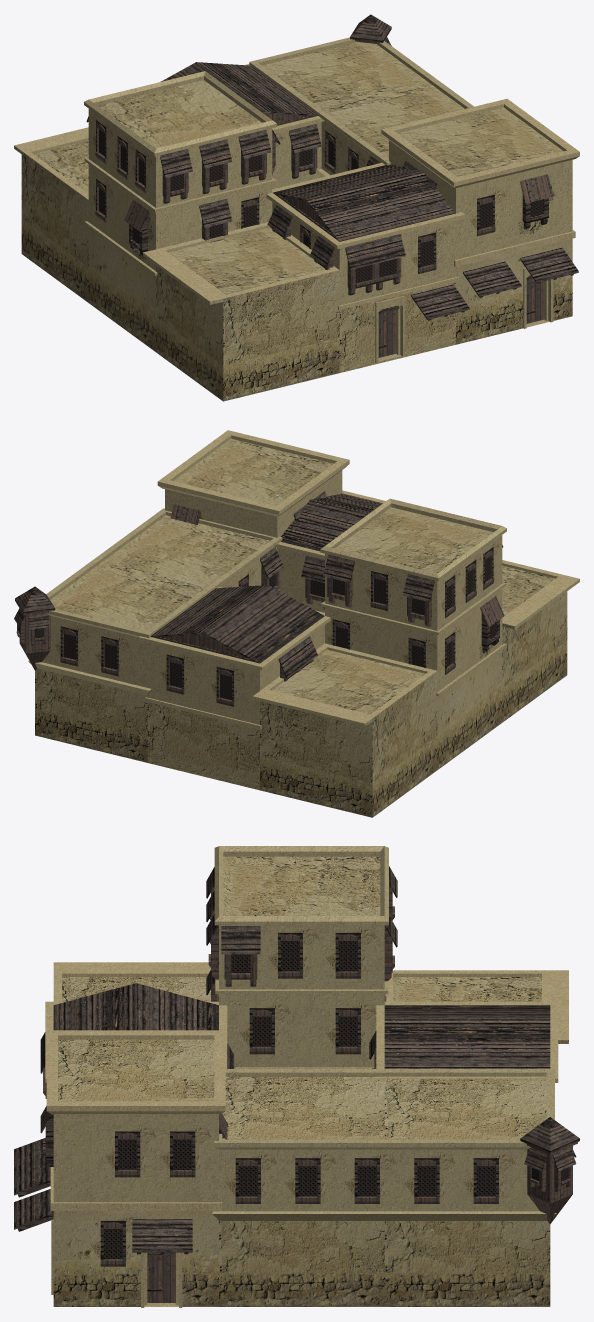
File: Building02.fbx
3 renders of one model, top to bottom at view 1: azimuth 30°, elevation 25°; view 2: azimuth 150°, elevation 25°; view 3: azimuth 270°, elevation 25°, orthographic. The views are drawn at different scales.
Parts seen in each view (by area): view 1: Building02; view 2: Building02; view 3: Building02.
Boxes of the visible parts, x1,y1,x2,y2 form: Building02: (14,14,579,401); Building02: (14,430,579,817); Building02: (14,846,579,1307).
Size of the model in its own units: 18833 by 9395 by 19212.
